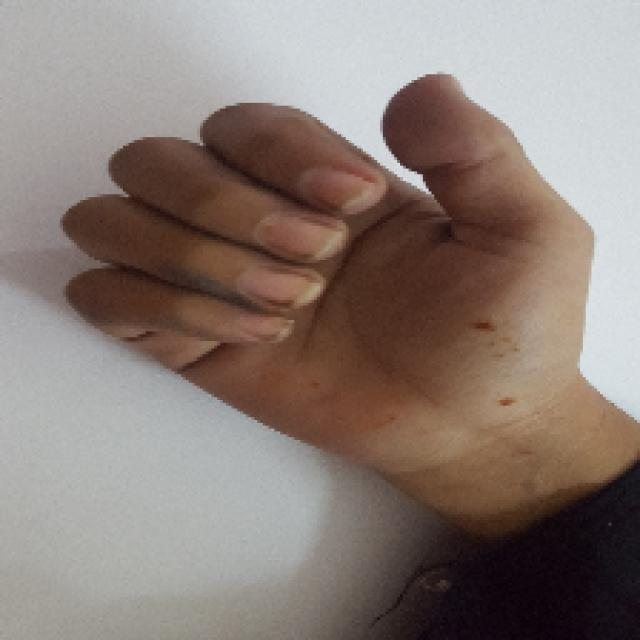Nail: (254, 211, 344, 261), (240, 268, 321, 307), (310, 168, 378, 207), (242, 316, 294, 338)
